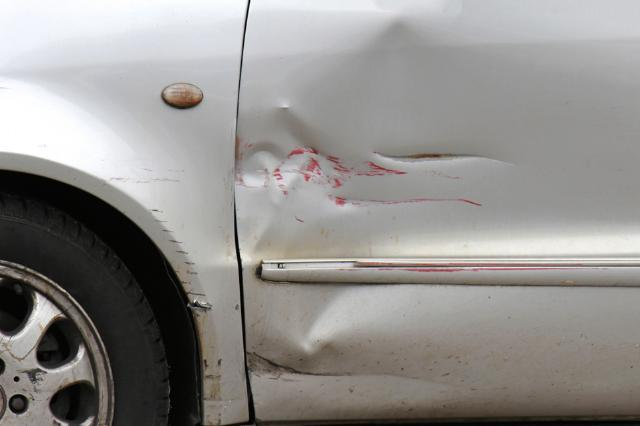Door: (255, 23, 640, 404)
Fender: (82, 122, 243, 414)
